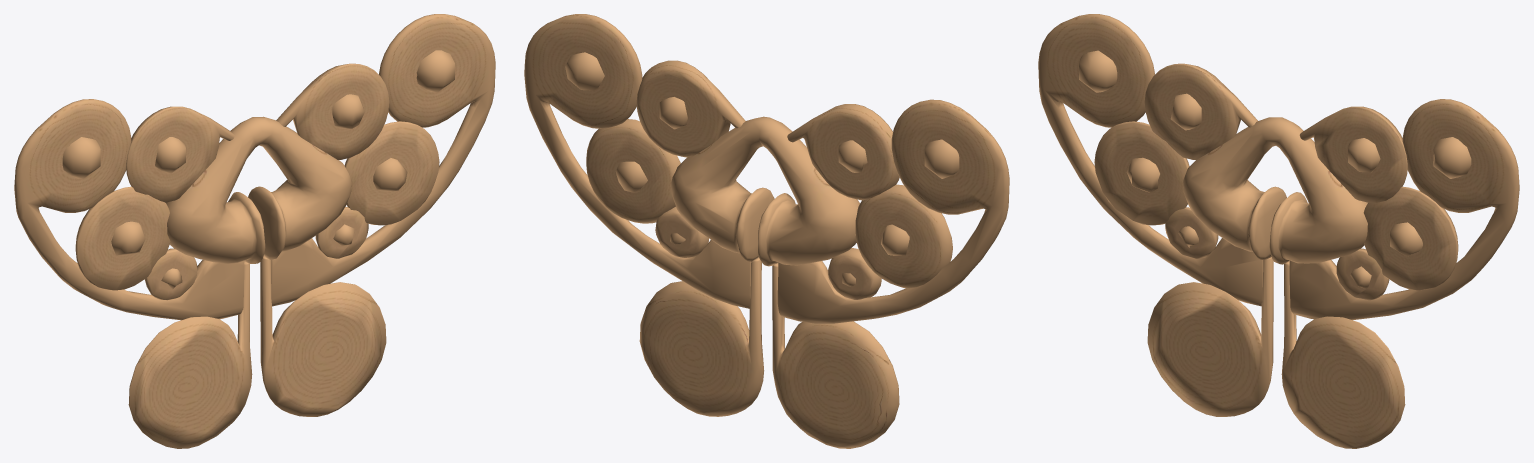
Rendered from tairona_-_nariguera_zoomorfa.lod2.glb.
The picture shows the model from 3 angles, left to right: view 1: azimuth 30°, elevation 25°; view 2: azimuth 150°, elevation 25°; view 3: azimuth 330°, elevation 25°; orthographic projection.
Visible parts, largest first — view 1: Circle.001, Circle, Sphere.004; view 2: Circle.001, Circle, Sphere.004; view 3: Circle.001, Circle, Sphere.004.
Boxes of the visible parts, left/top/right/bottom form: Circle.001: left=14, top=14, right=495, bottom=448; Circle: left=166, top=116, right=351, bottom=263; Sphere.004: left=62, top=50, right=454, bottom=289; Circle.001: left=524, top=14, right=1009, bottom=448; Circle: left=671, top=116, right=859, bottom=266; Sphere.004: left=565, top=52, right=959, bottom=286; Circle.001: left=1038, top=14, right=1519, bottom=448; Circle: left=1183, top=117, right=1367, bottom=264; Sphere.004: left=1079, top=50, right=1471, bottom=288.
Bounding box in the file's own units: 8.23 × 6.08 × 1.12.
Materials: 1 (1 with a texture image).
